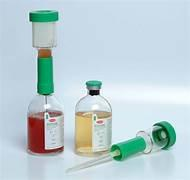Iv_Bottle: (27, 10, 63, 153), (27, 57, 63, 153), (75, 80, 111, 155)
Syringe: (66, 121, 175, 172)
